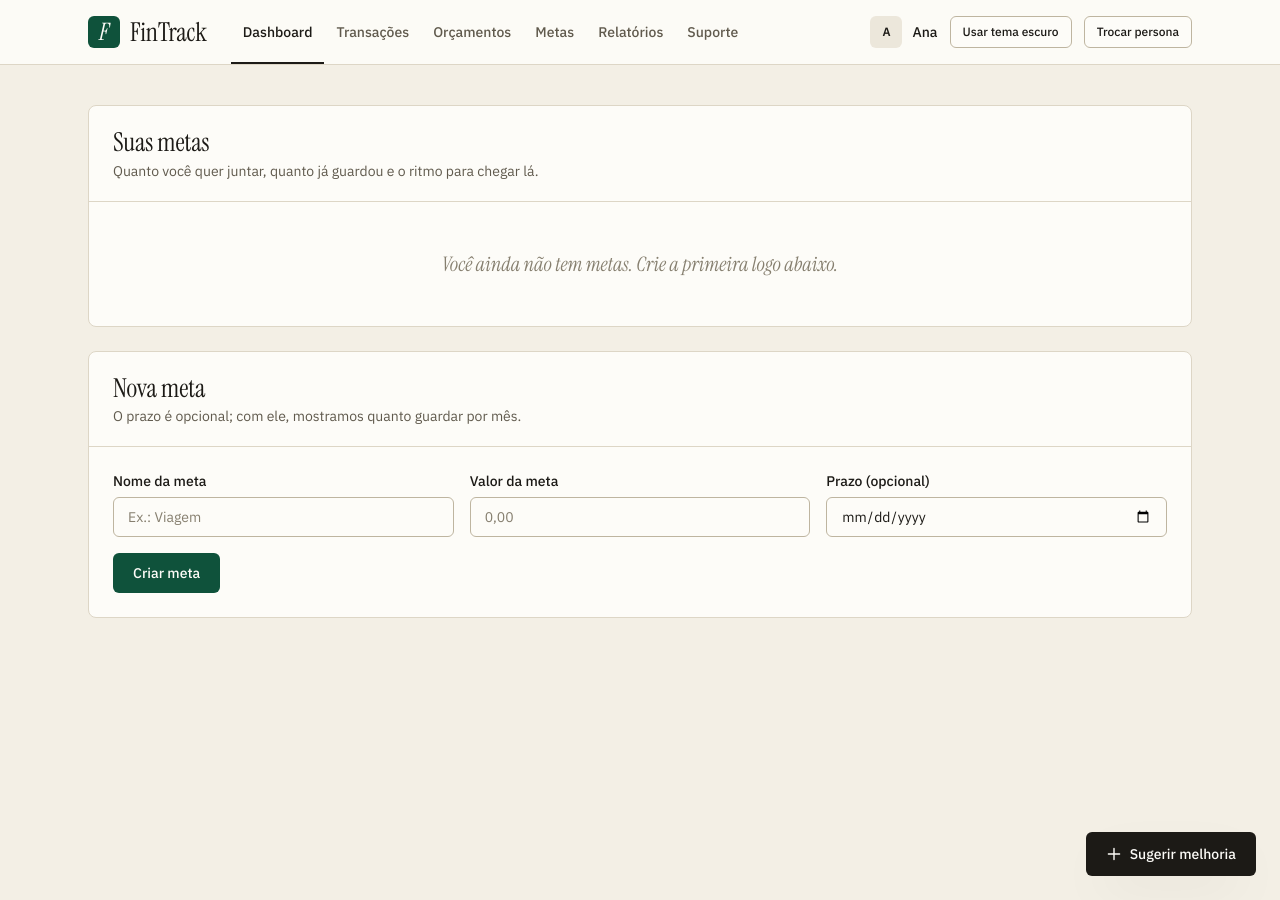
metas › mostra o erro do prazo no campo do prazo
The image size is (1280, 900).
Check: the text "Você ainda não tem metas. Crie a primeira logo abaixo." is shown, box [442, 250, 838, 276]
Type "X" into the field labelled "Nome da meta" at (283, 517), box [113, 497, 454, 537]
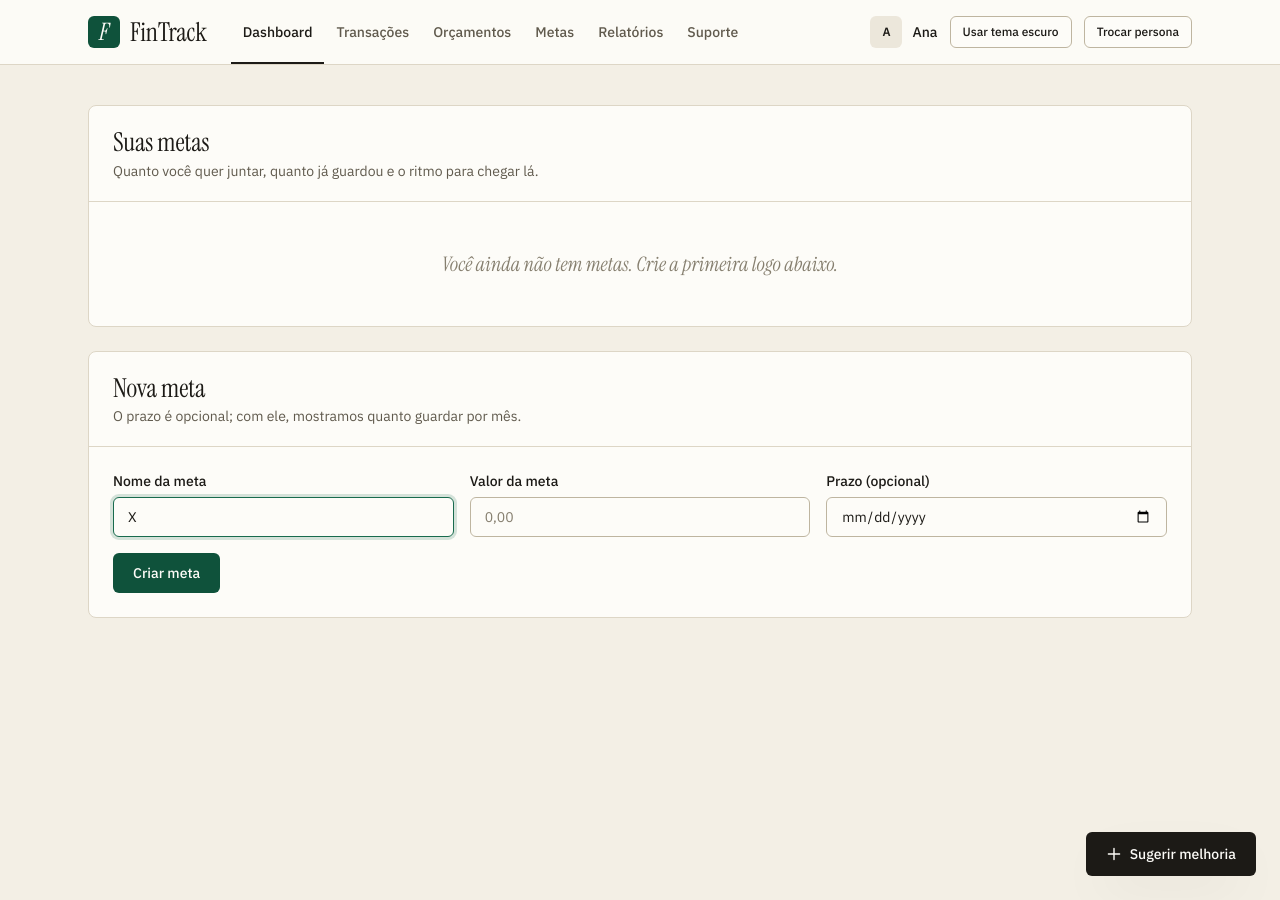
Type "10" into the number field labelled "Valor da meta" at (640, 517), box [470, 497, 810, 537]
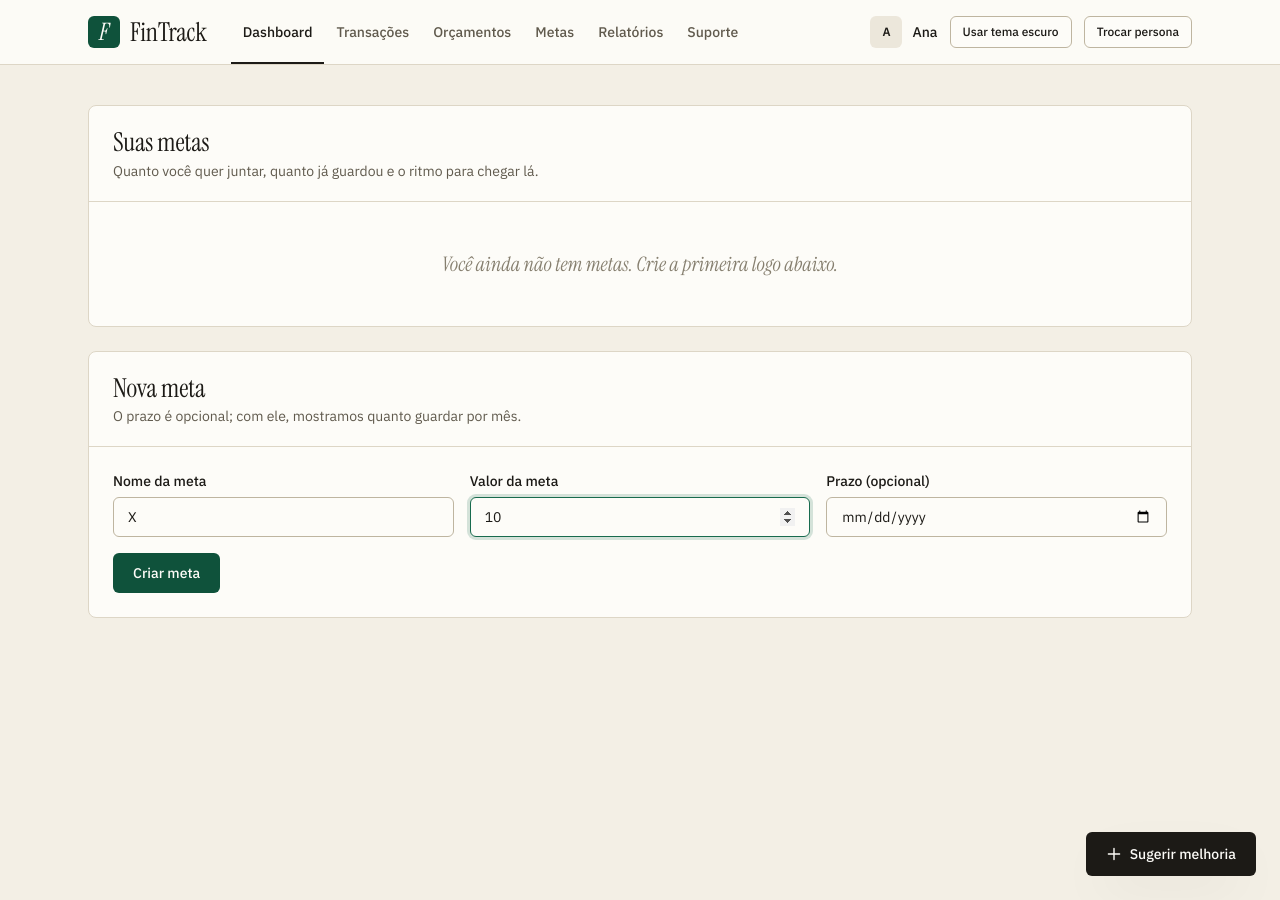
Click the button "Criar meta" at (167, 573), box [113, 553, 220, 593]
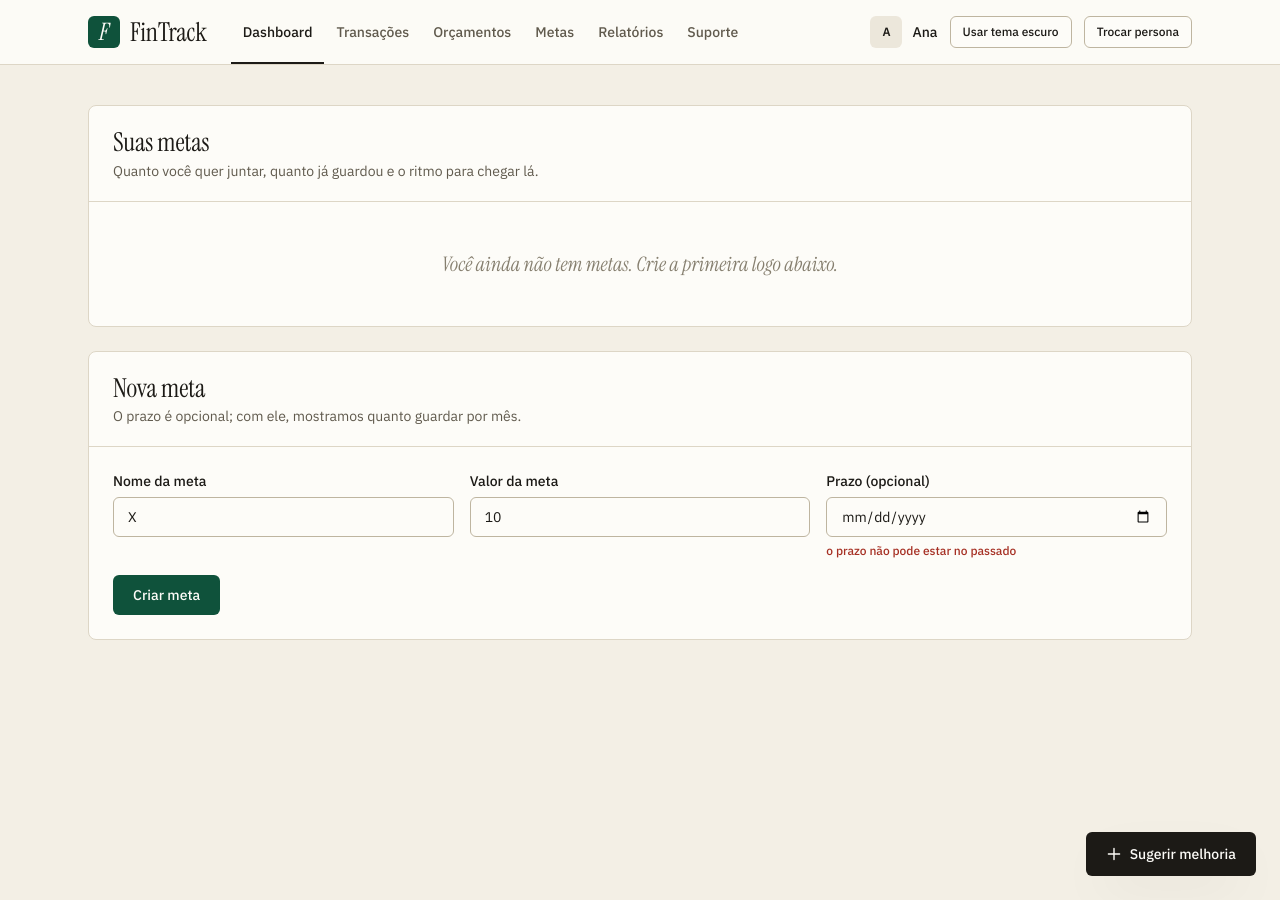
Check: the text "o prazo não pode estar no passado" is shown, box [826, 543, 1016, 558]
